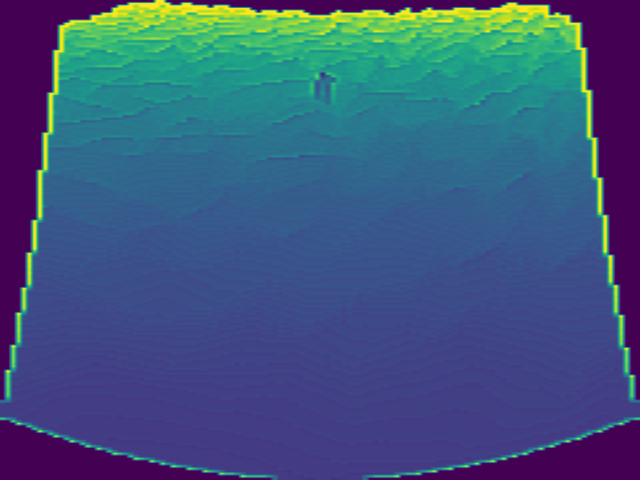car_0198: (311, 70, 336, 102)
